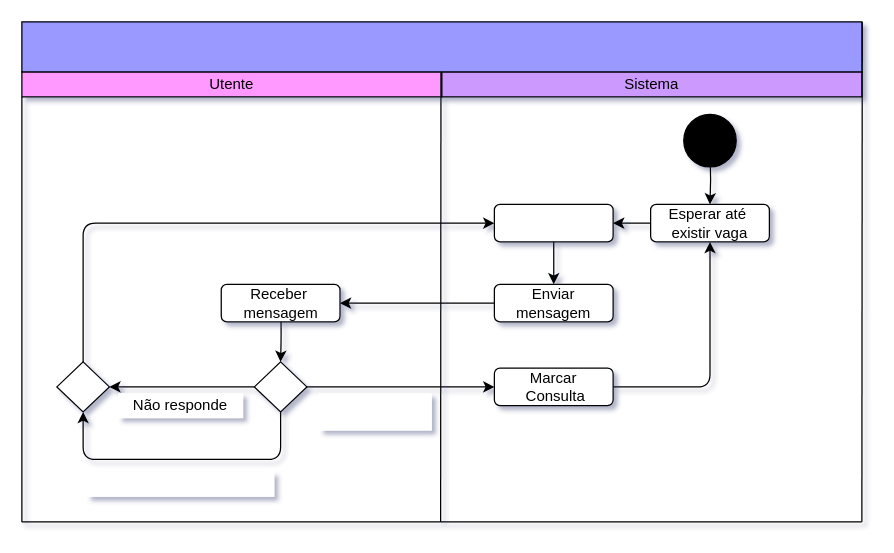
This 894x553 diagram has some shape labels left out. Each missing label, with the box of its shape:
Atribuir vaga: (493, 203, 613, 242)
Lista de espera: (21, 21, 862, 72)
Responde negativamente: (86, 471, 274, 496)
Responde positivamente: (319, 392, 431, 430)
